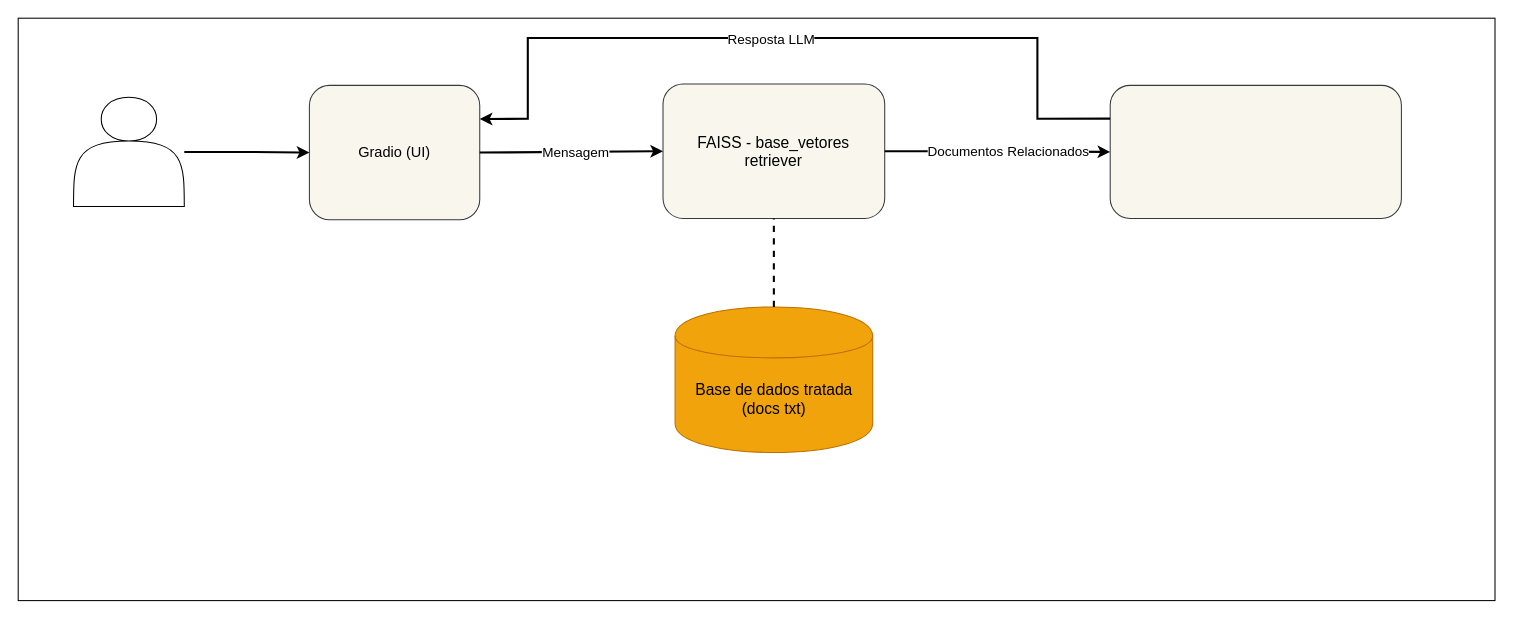
Image size: 1513x619. Some labels were removed from this diagram. Here are the shapes that lost their labels. From the top down, the centre of each, then its label:
At [128,151]: "Usuário".
At [1255,151]: "Chain prompt (context + mensagem) | LLM".
